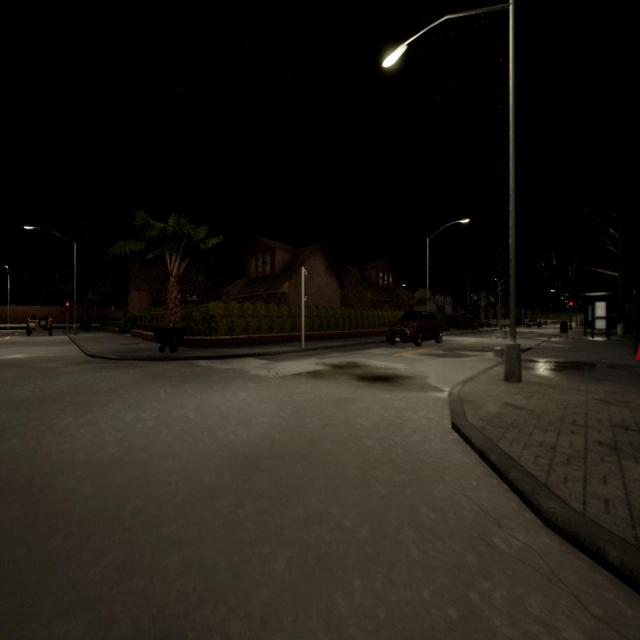Vehicle: (386, 311, 442, 345), (26, 312, 52, 336), (525, 316, 542, 329)
traffic_light: (305, 275, 308, 295), (66, 301, 69, 313), (570, 302, 572, 310)
